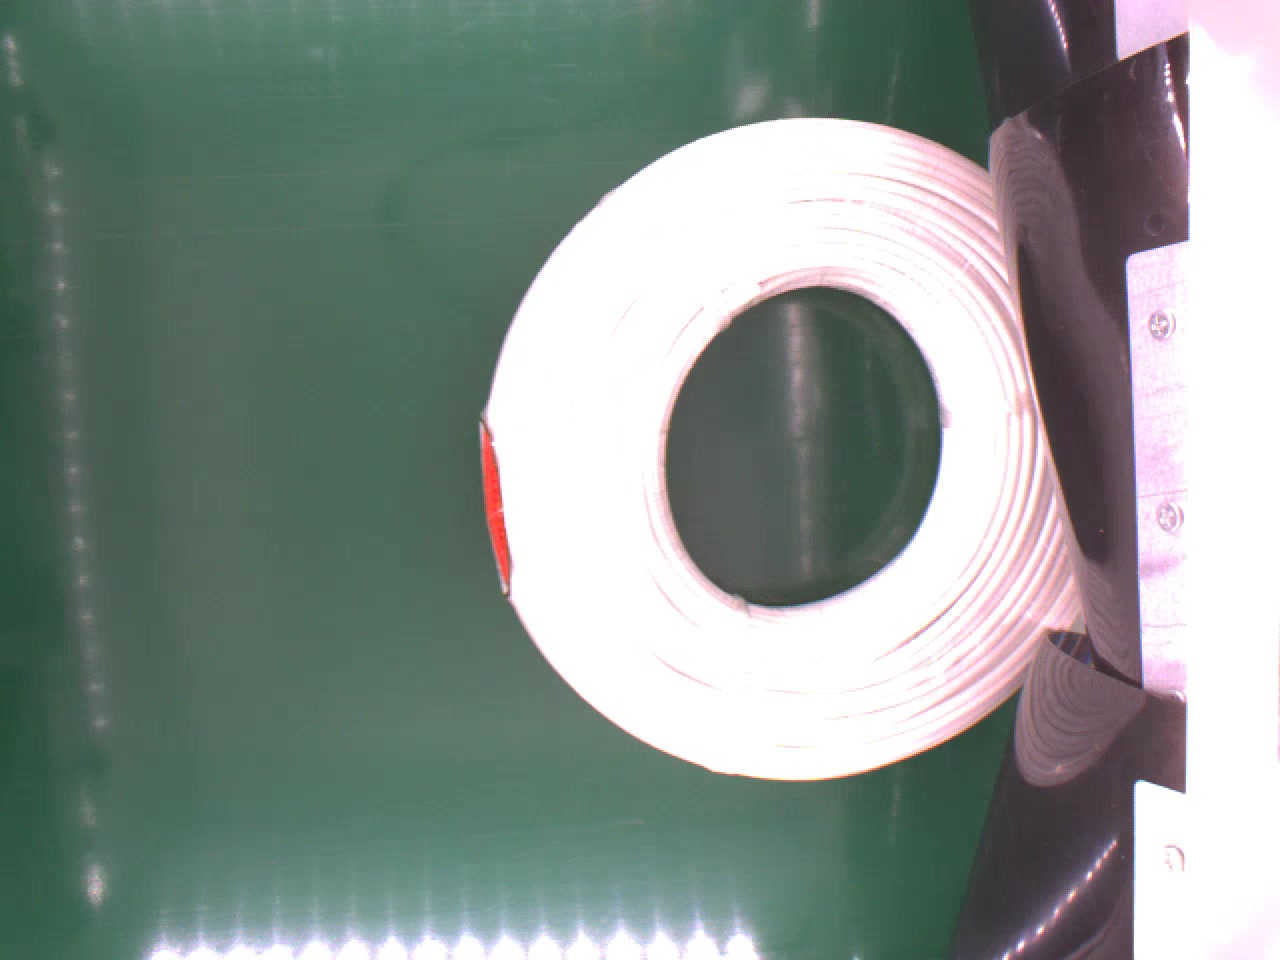white: (477, 112, 1095, 786)
